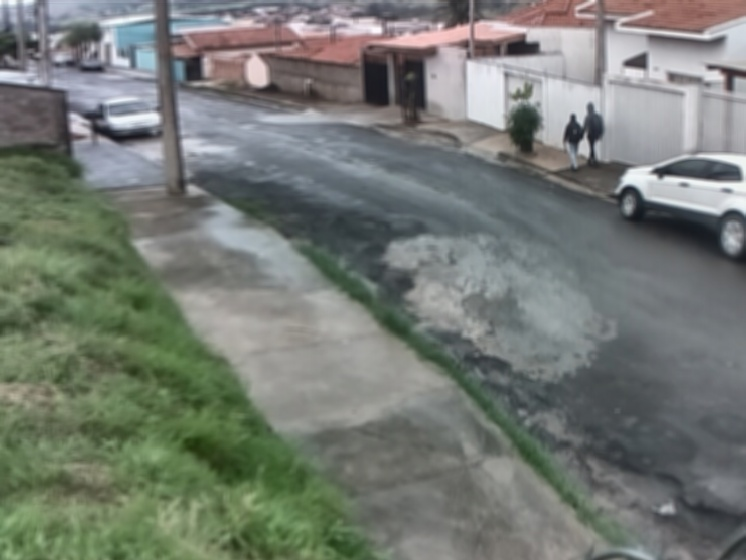person: (579, 100, 605, 169), (562, 113, 583, 174)
